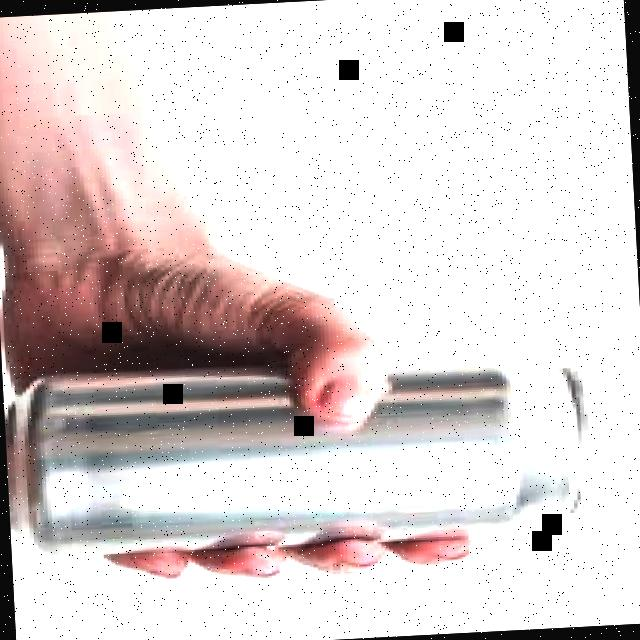can: (3, 343, 607, 562)
